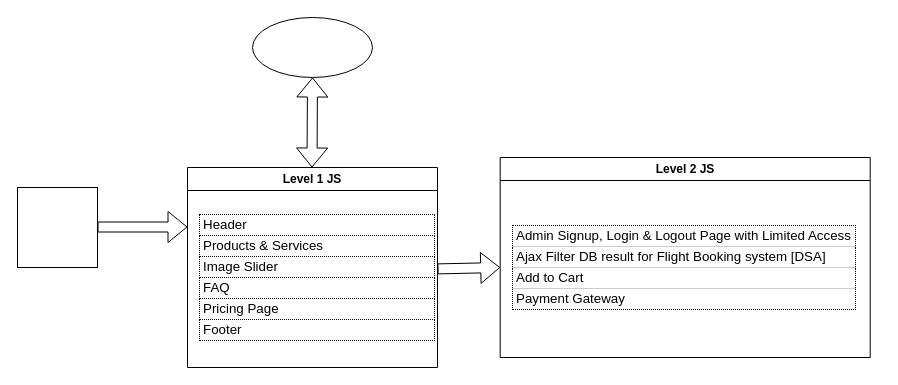
This 898x385 diagram has some shape labels left out. The centre of each missing label's shape, as x and y in pixels:
API https://catfact.ninja/: point 312,47
Login Form: point 57,227
